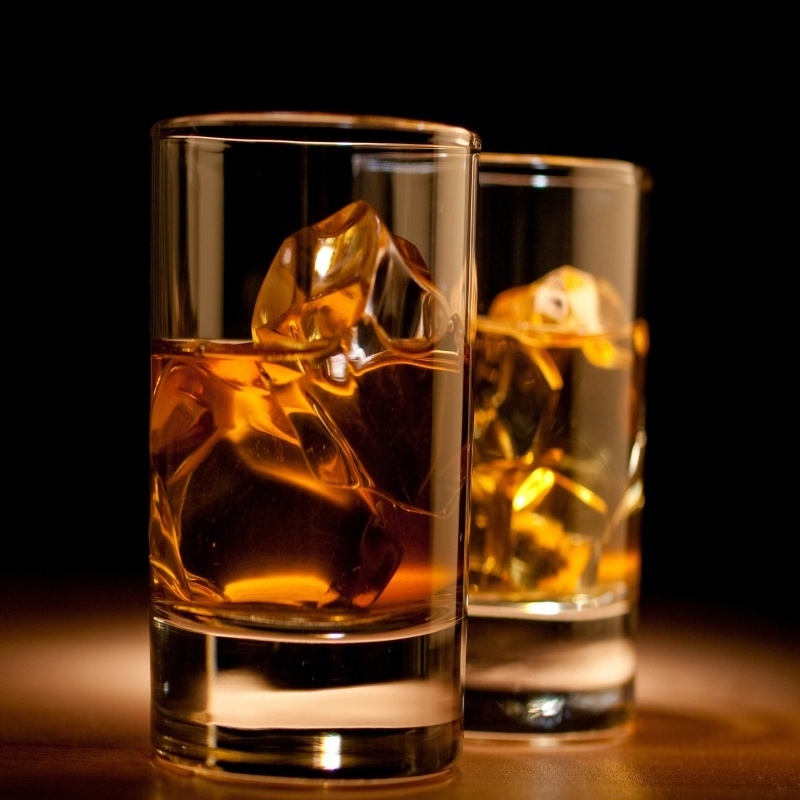whiskey: (138, 105, 472, 776), (469, 155, 666, 747)
